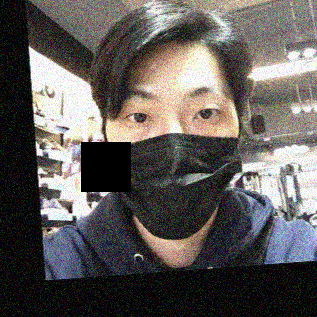with_mask: (107, 82, 243, 238)
